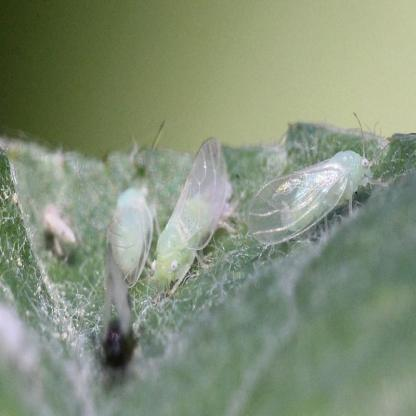aphid: (250, 123, 377, 261), (148, 135, 236, 282), (88, 174, 154, 370)
